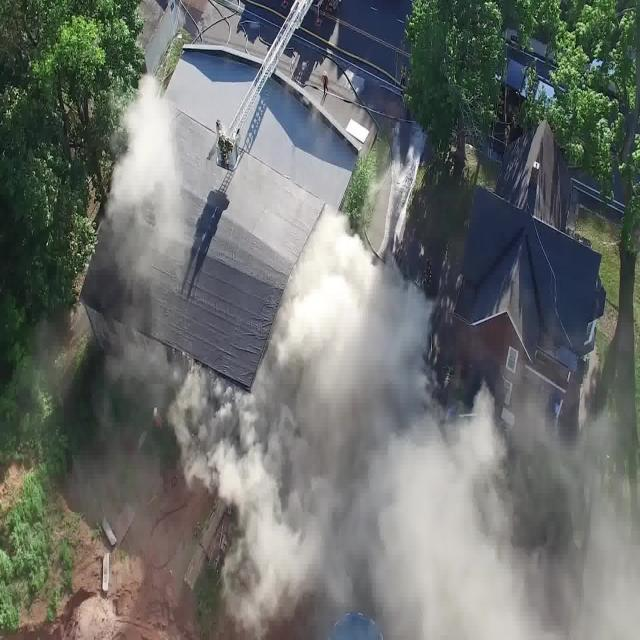Smoke: (139, 77, 640, 640)
